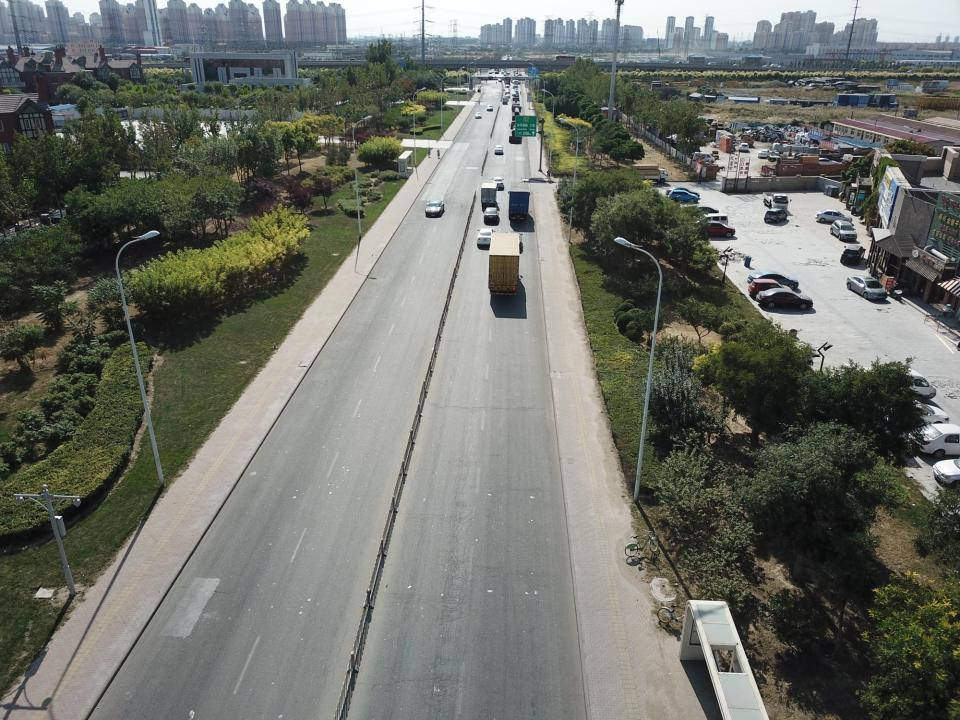car: (879, 397, 949, 430), (909, 423, 958, 458), (756, 288, 813, 310), (748, 278, 792, 300), (747, 272, 799, 290), (846, 276, 888, 298), (698, 220, 735, 238), (815, 210, 853, 226), (830, 220, 858, 240), (840, 244, 866, 265), (665, 186, 700, 200), (668, 189, 699, 204), (683, 205, 719, 216), (476, 228, 496, 246), (764, 208, 787, 223), (425, 200, 444, 217), (505, 231, 522, 248), (484, 207, 500, 224), (812, 158, 838, 168), (492, 176, 504, 189), (758, 149, 770, 158), (738, 143, 750, 152), (494, 145, 504, 154), (475, 112, 482, 118), (487, 105, 493, 111)
truck: (488, 232, 520, 296), (508, 181, 531, 220), (630, 164, 668, 184), (762, 192, 792, 212), (481, 183, 497, 206), (509, 120, 522, 144), (511, 105, 522, 122), (740, 133, 754, 146), (511, 96, 521, 106)
van: (856, 365, 936, 399), (693, 212, 728, 230), (692, 152, 714, 163), (502, 97, 507, 105)
